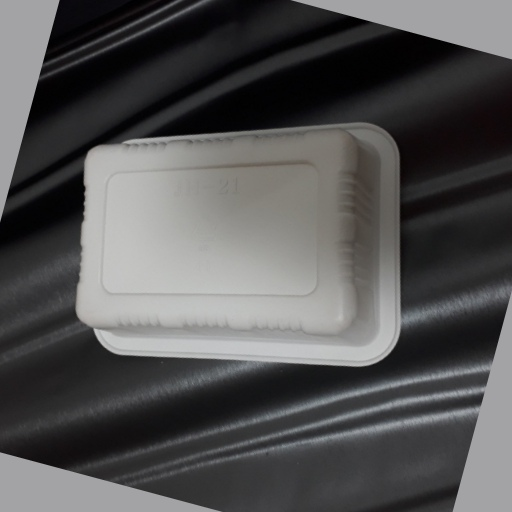Plastic_4: (72, 121, 401, 368)
